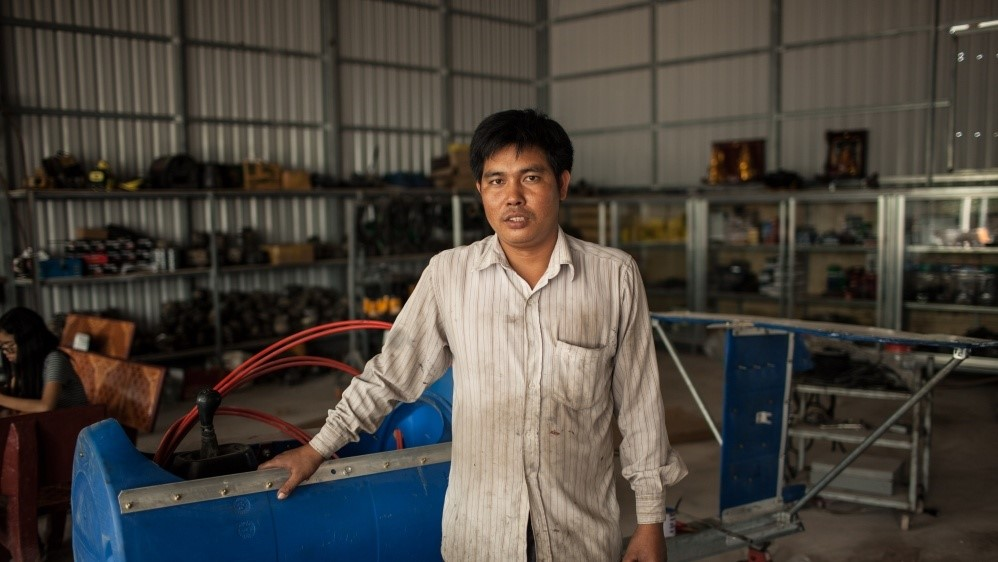face_no_mask: (471, 109, 574, 248)
